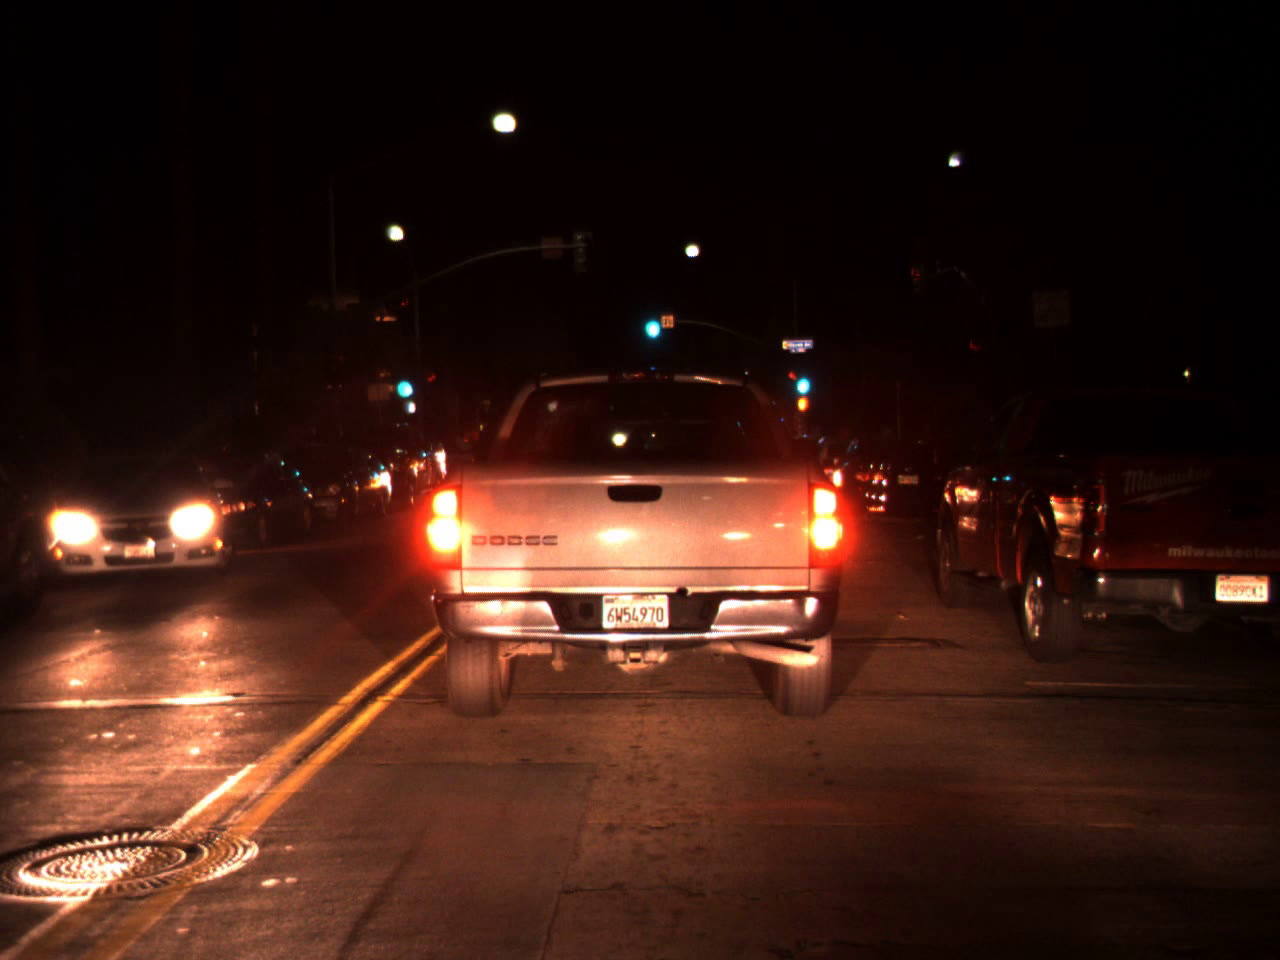go: (639, 299, 662, 344), (392, 361, 413, 403), (792, 358, 811, 400)
